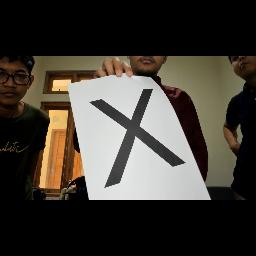x: (82, 86, 188, 190)
